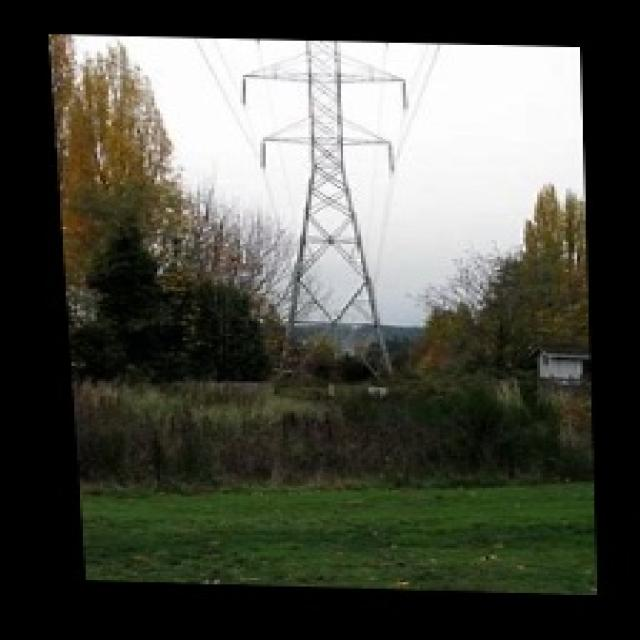utility poles: (191, 266, 314, 388), (334, 300, 486, 386)
